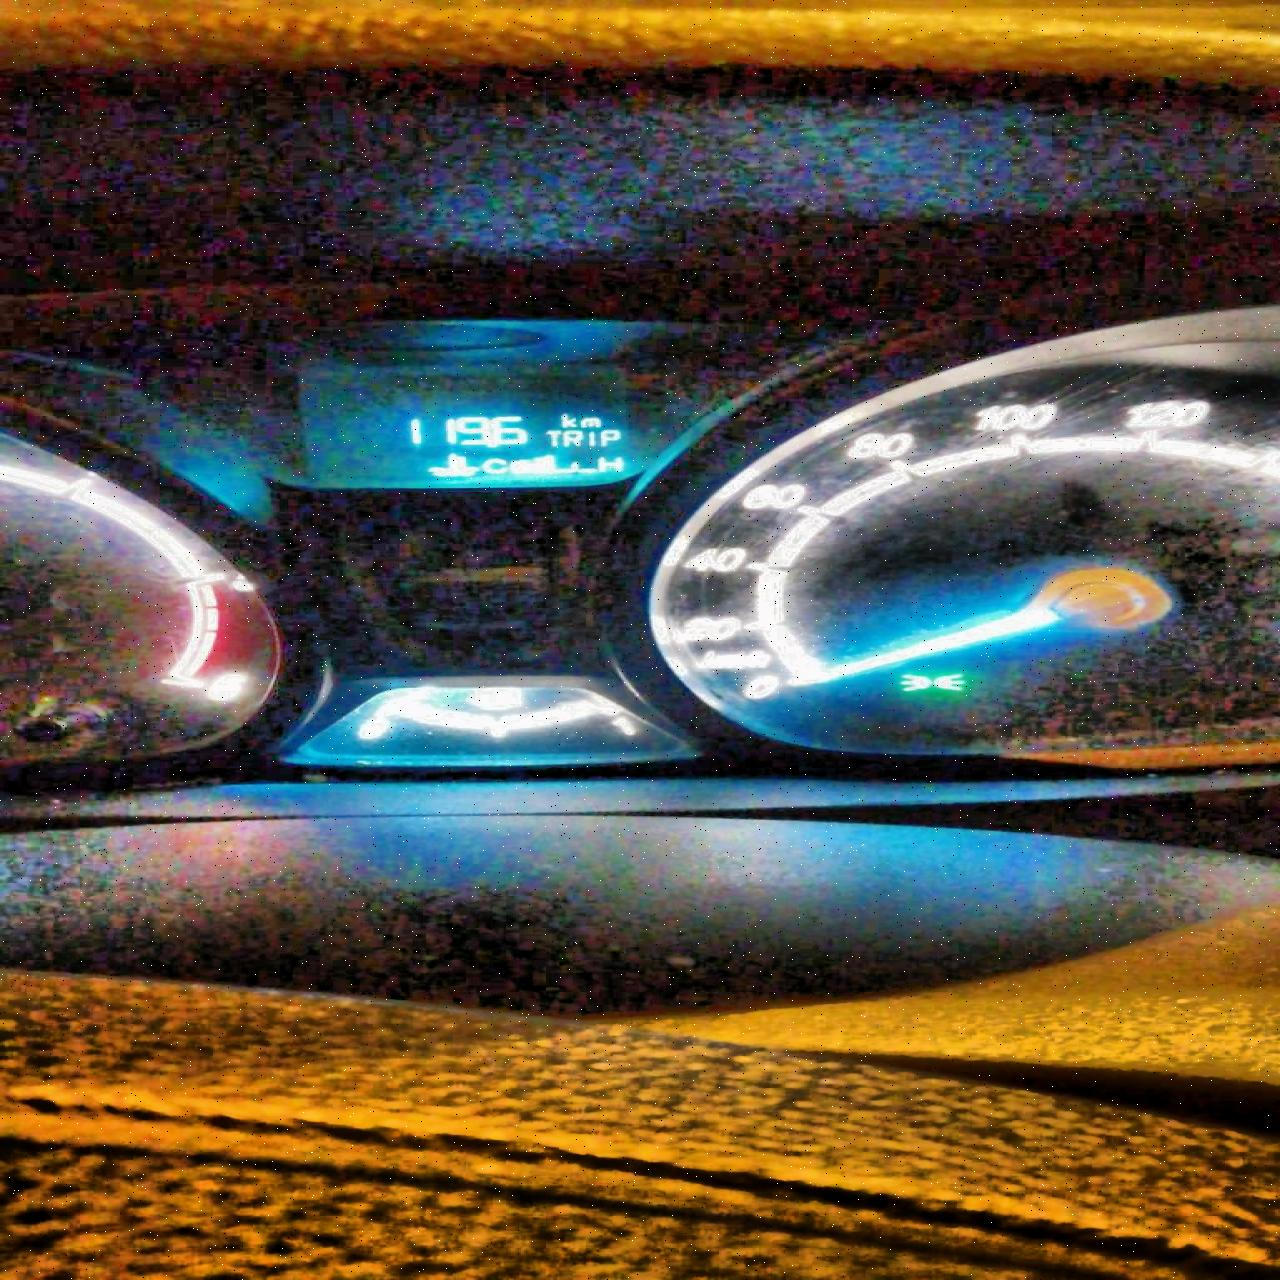-: (486, 442, 501, 449)
1: (403, 416, 427, 448), (437, 417, 456, 448)
6: (492, 414, 532, 444)
9: (456, 414, 491, 444)
X: (478, 456, 509, 476), (595, 454, 626, 474), (598, 427, 625, 447), (561, 429, 583, 448), (540, 428, 559, 448), (557, 411, 578, 427), (579, 415, 601, 427), (584, 428, 595, 448)
odometer: (313, 390, 674, 485)
